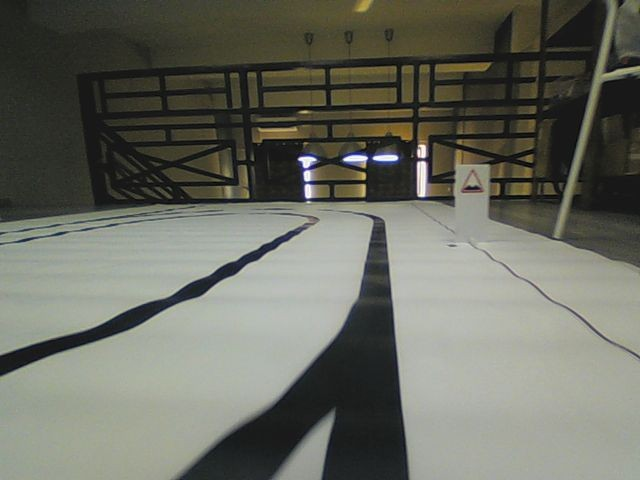Nerov: (460, 168, 485, 194)
